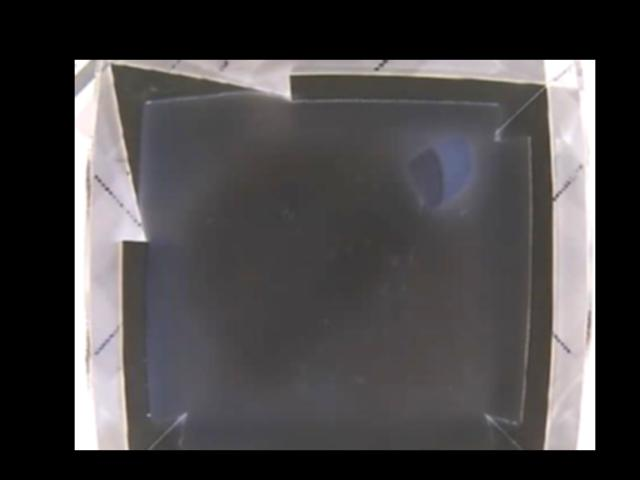Mooli: (407, 135, 472, 208)
